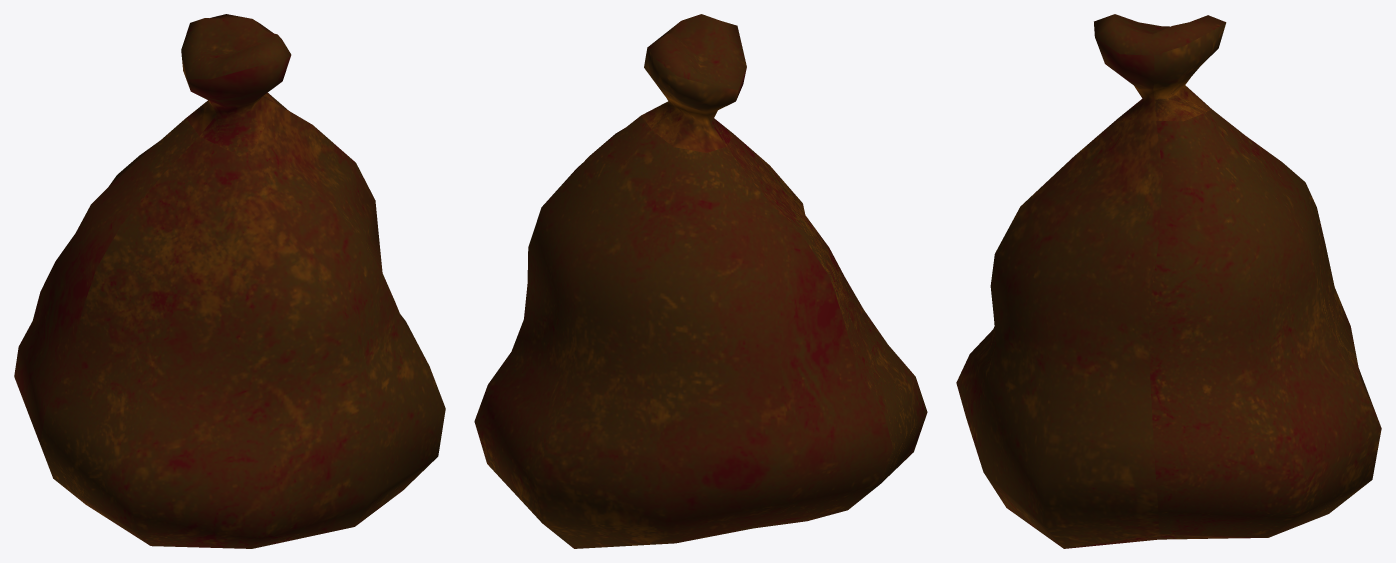
The model's file is SM_garbagebag.fbx.
3 renders of one model, left to right at view 1: azimuth 30°, elevation 25°; view 2: azimuth 150°, elevation 25°; view 3: azimuth 270°, elevation 25°, orthographic. The views are drawn at different scales.
Visible parts, largest first — view 1: SM_garbagebag; view 2: SM_garbagebag; view 3: SM_garbagebag.
Part boxes in pixels (left/top/right/bottom): SM_garbagebag: left=14, top=14, right=445, bottom=548; SM_garbagebag: left=474, top=14, right=927, bottom=548; SM_garbagebag: left=956, top=14, right=1381, bottom=548.
Size of the model in its own units: 99.06 by 120 by 94.36.
